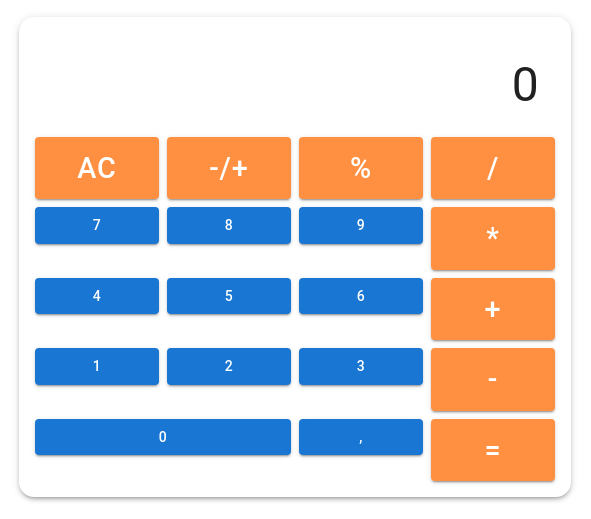
Test case: Calculator App tests › Does multiply corectly
Click the button "4": coordinates (97, 296) [35,278,159,314]
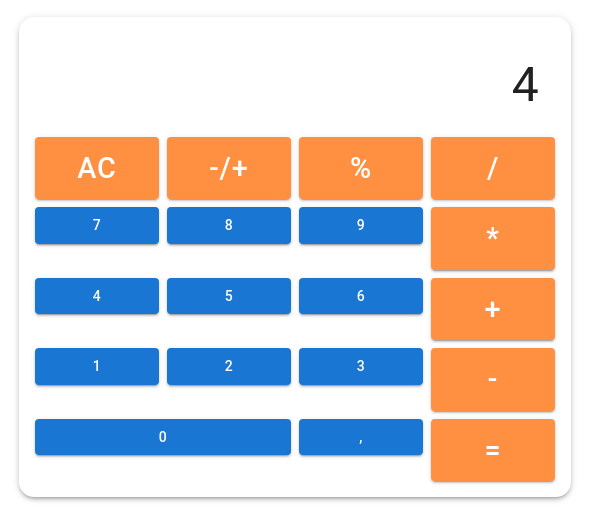
Click the button "1": coordinates (97, 366) [35,348,159,385]
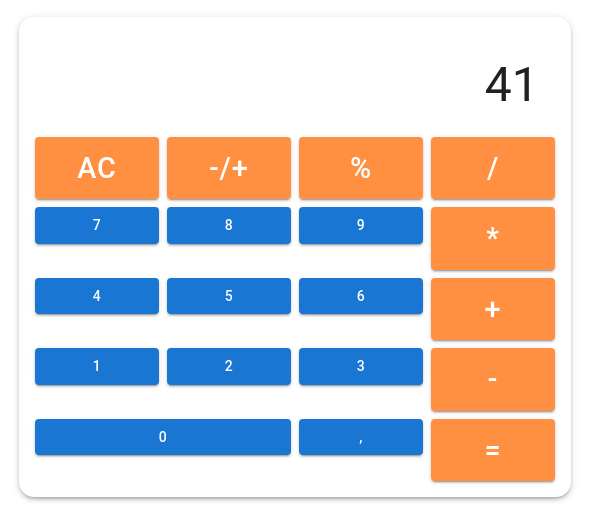
Click the button "*": coordinates (493, 239) [431,207,555,270]
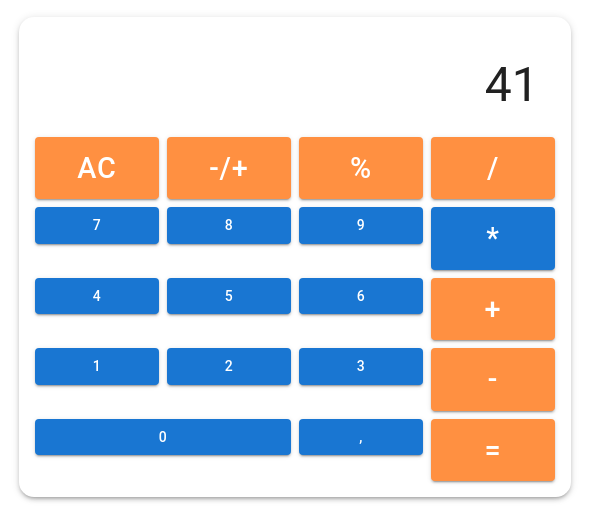
Click the button "3": coordinates (361, 366) [299,348,423,385]
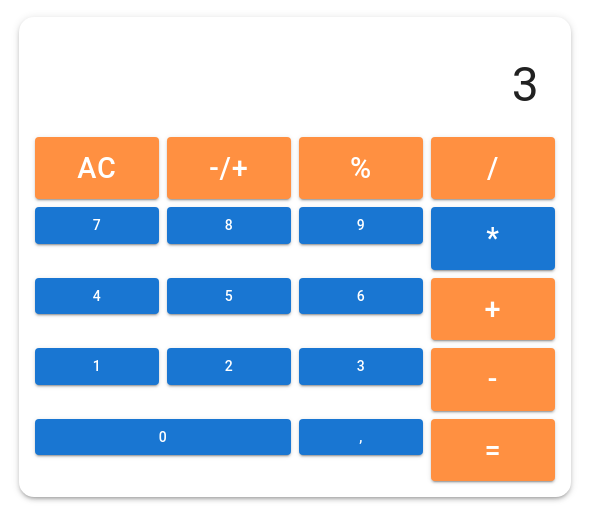
Click the button "=": coordinates (493, 450) [431,419,555,481]
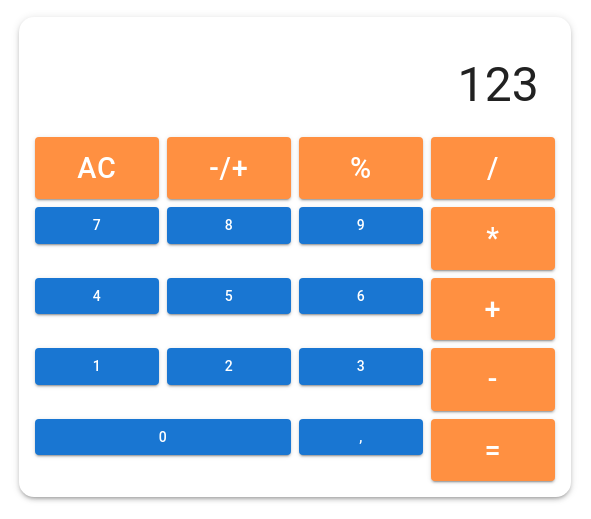
Check: the text with test id "output" reads "123", box [458,56,539,113]
